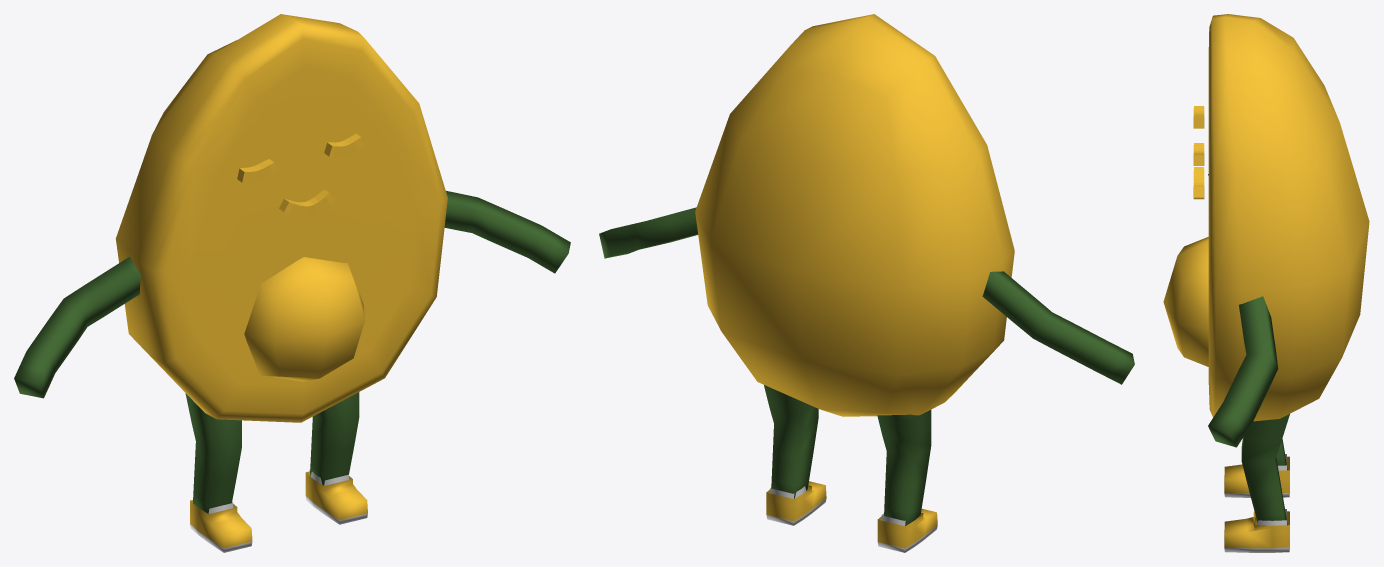
File: avocado_GEO.fbx
3 views of the same model, side by side, from view 1: azimuth 30°, elevation 25°; view 2: azimuth 150°, elevation 25°; view 3: azimuth 270°, elevation 25° (orthographic). The views are drawn at different scales.
Visible parts, largest first — view 1: avocado_A; view 2: avocado_A; view 3: avocado_A.
Boxes of the visible parts, x1,y1,x2,y2 form: avocado_A: (14,14,570,552); avocado_A: (599,14,1134,552); avocado_A: (1163,14,1369,552).
Size of the model in its own units: 242 by 215 by 79.9.
